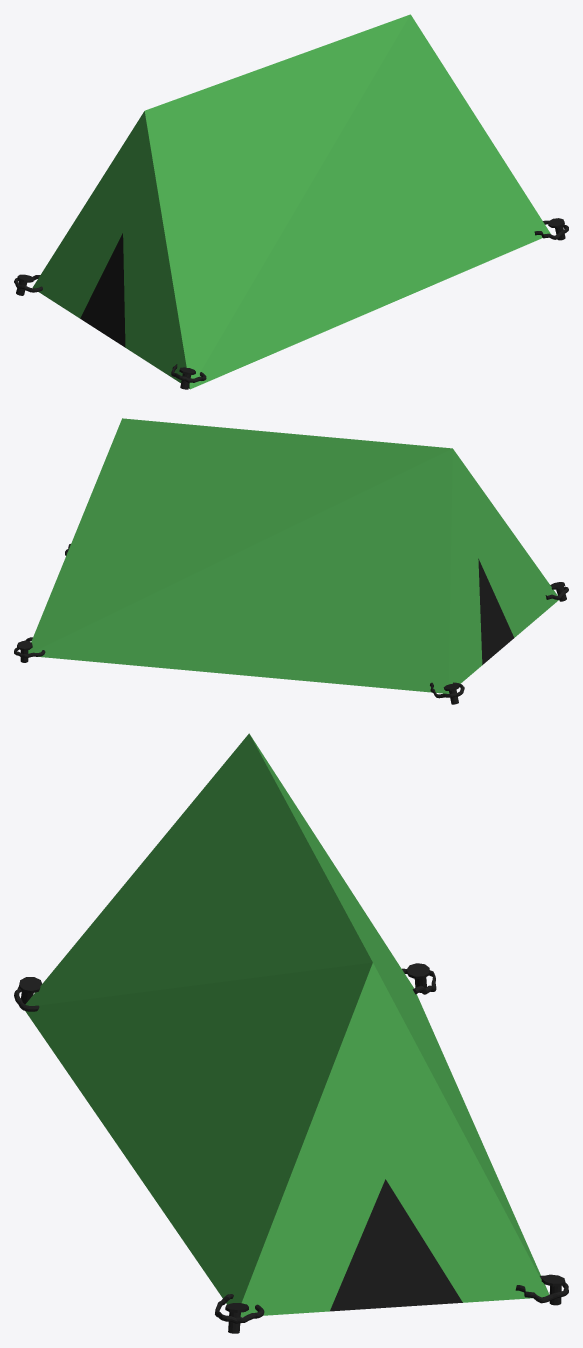
Rendered from Tent.fbx.
The picture shows the model from 3 angles, top to bottom: view 1: azimuth 30°, elevation 25°; view 2: azimuth 150°, elevation 25°; view 3: azimuth 270°, elevation 25°; orthographic projection. The views are drawn at different scales.
Visible parts, largest first — view 1: mesh_865718123; view 2: mesh_865718123; view 3: mesh_865718123.
Part boxes in pixels (<box>): mesh_865718123: <box>32,14,550,389</box>; mesh_865718123: <box>28,418,558,693</box>; mesh_865718123: <box>25,733,549,1317</box>.
Bounding box in the file's own units: 132 × 60.79 × 92.84.
